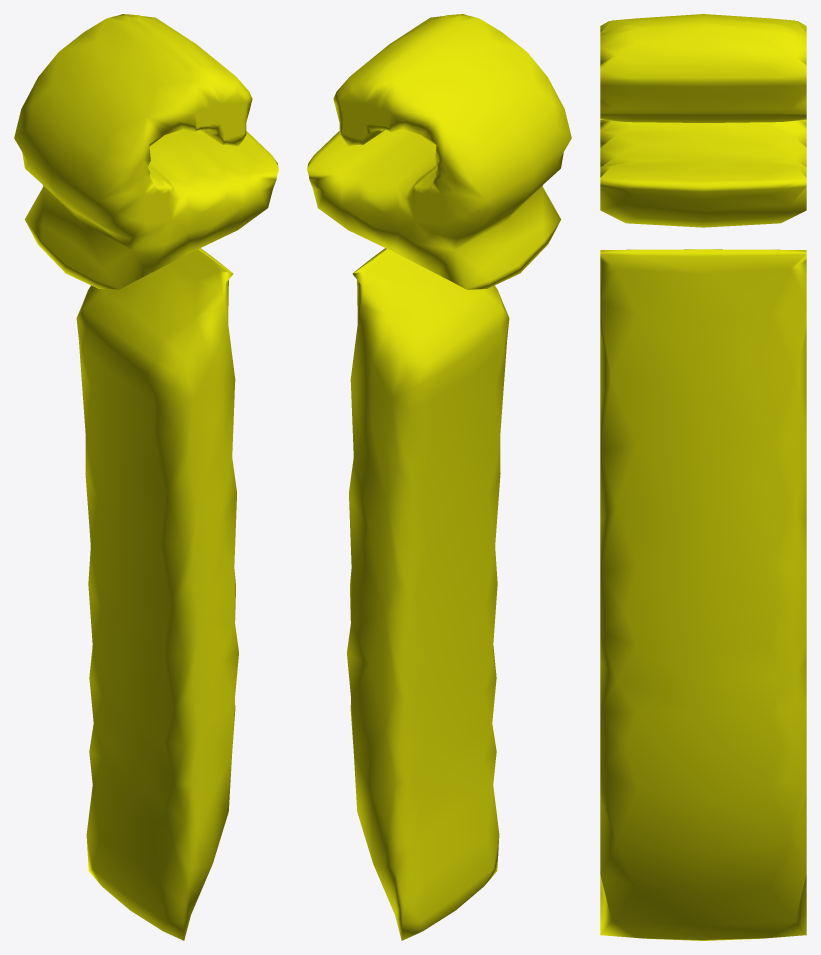
3 renders of one model, left to right at view 1: azimuth 30°, elevation 25°; view 2: azimuth 150°, elevation 25°; view 3: azimuth 270°, elevation 25°, orthographic. The views are drawn at different scales.
Parts seen in each view (by area): view 1: char_1; view 2: char_1; view 3: char_1.
Part boxes in pixels (bbox=[...]): char_1: bbox=[14, 14, 278, 940]; char_1: bbox=[307, 14, 571, 940]; char_1: bbox=[600, 14, 806, 940].
Bounding box in the file's own units: 2.37 × 9.99 × 2.
